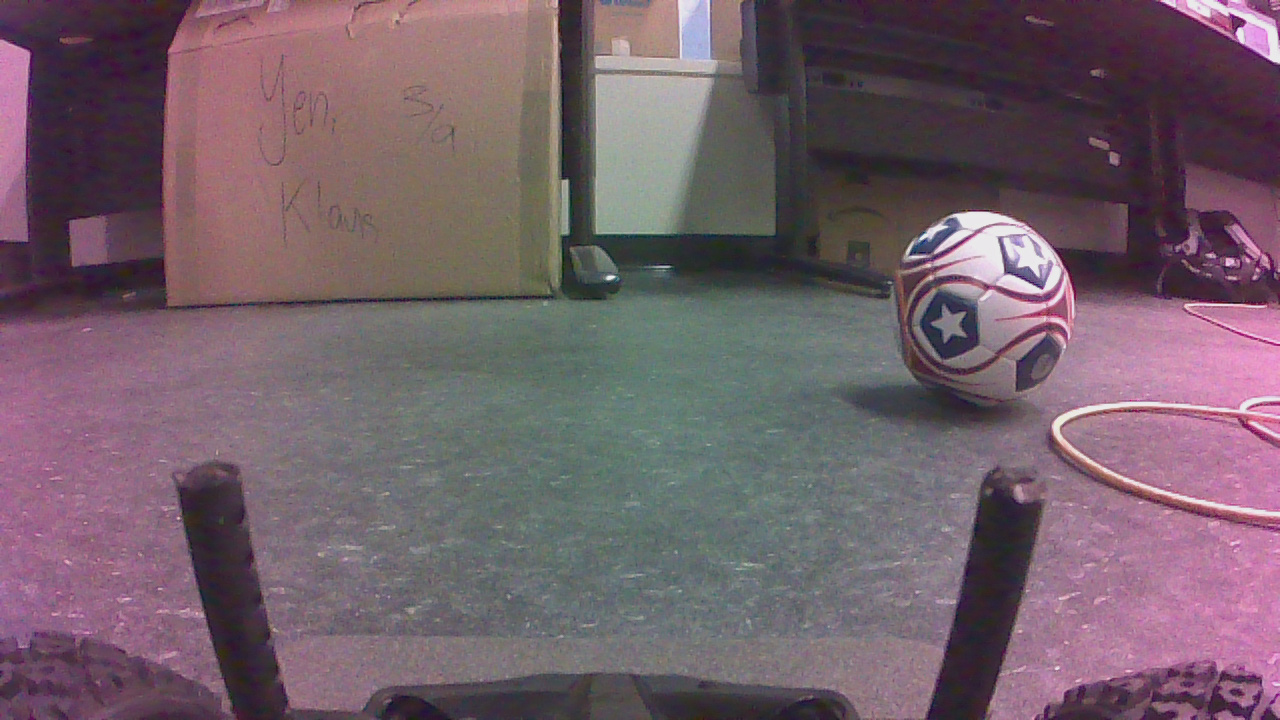ball: (883, 216, 1083, 408)
